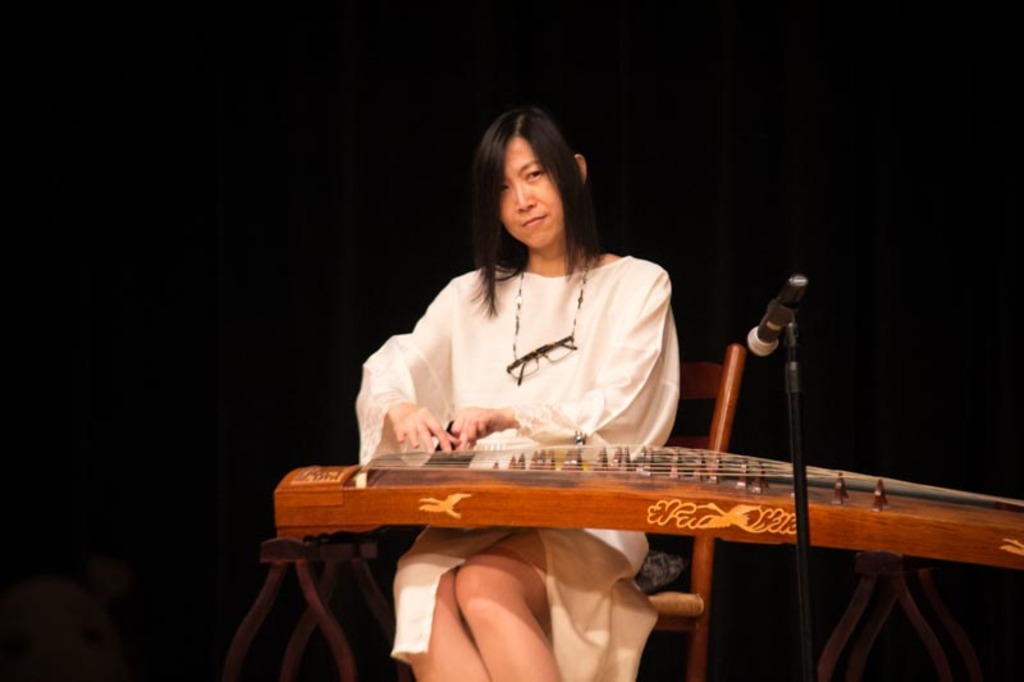Person: (356, 106, 680, 681)
